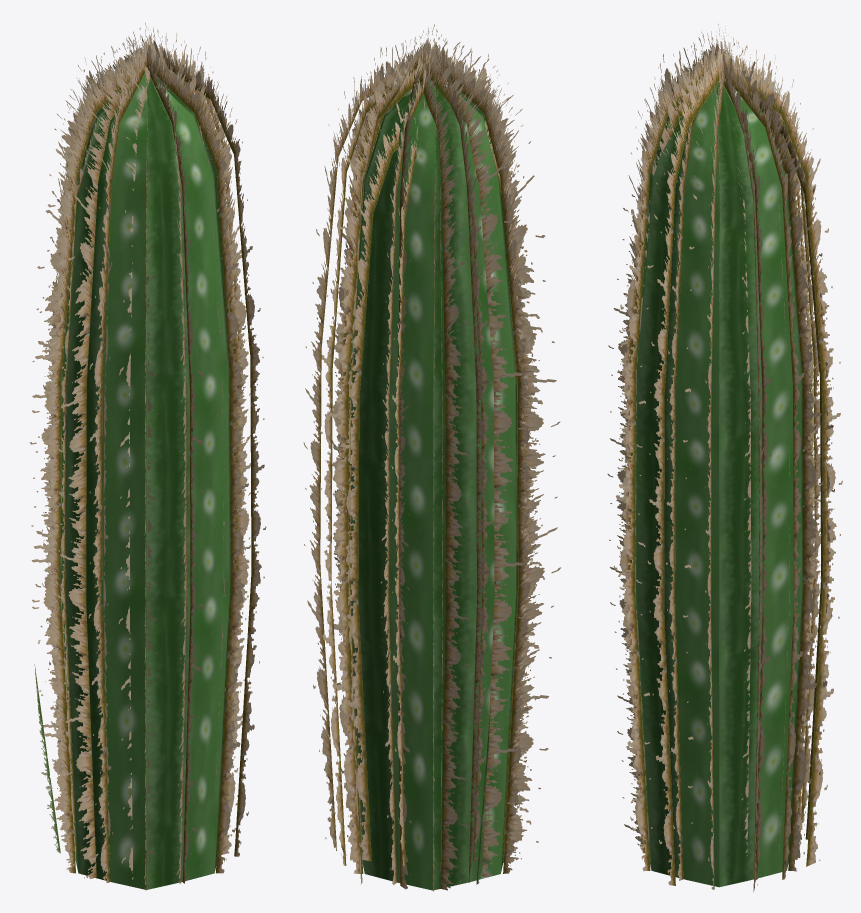
Rendered from Model_Cactus_Small_02.fbx.
The picture shows the model from 3 angles, left to right: view 1: azimuth 30°, elevation 25°; view 2: azimuth 150°, elevation 25°; view 3: azimuth 270°, elevation 25°; orthographic projection.
Visible parts, largest first — view 1: Cactus_Small_02; view 2: Cactus_Small_02; view 3: Cactus_Small_02.
Part boxes in pixels (<box>): Cactus_Small_02: <box>29,22,266,890</box>; Cactus_Small_02: <box>303,24,560,891</box>; Cactus_Small_02: <box>607,24,842,892</box>.
Bounding box in the file's own units: 21.24 × 76.34 × 20.67.
